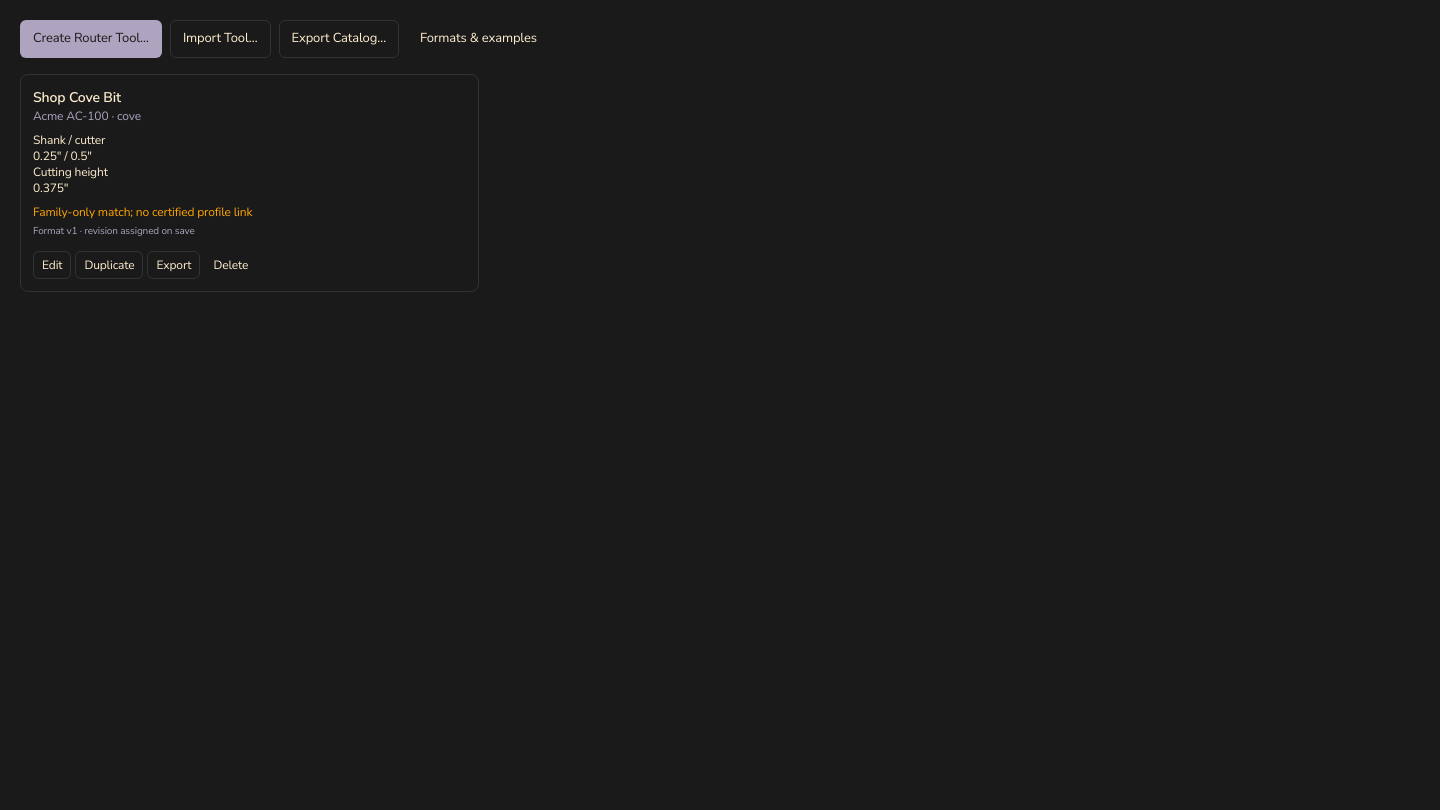
RouterToolsTab › opens the create, formats and catalog-export surfaces
This screenshot has width=1440, height=810.
Click the button "Create Router Tool…" at (91, 39), box [20,20,162,58]
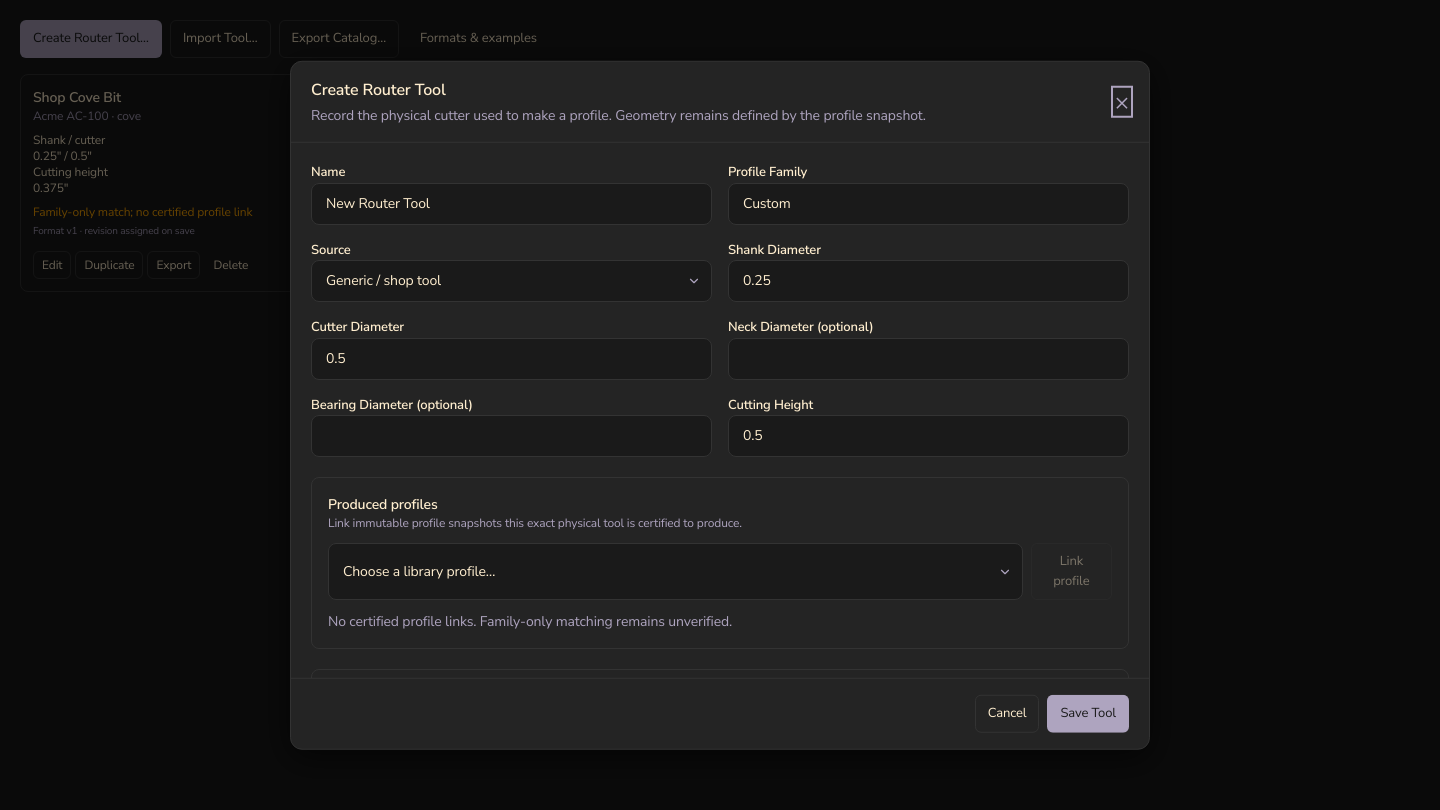
Now the dialog is shown, box [290,61,1150,749]
Press Escape in the button "×", box [1115,90,1129,114]
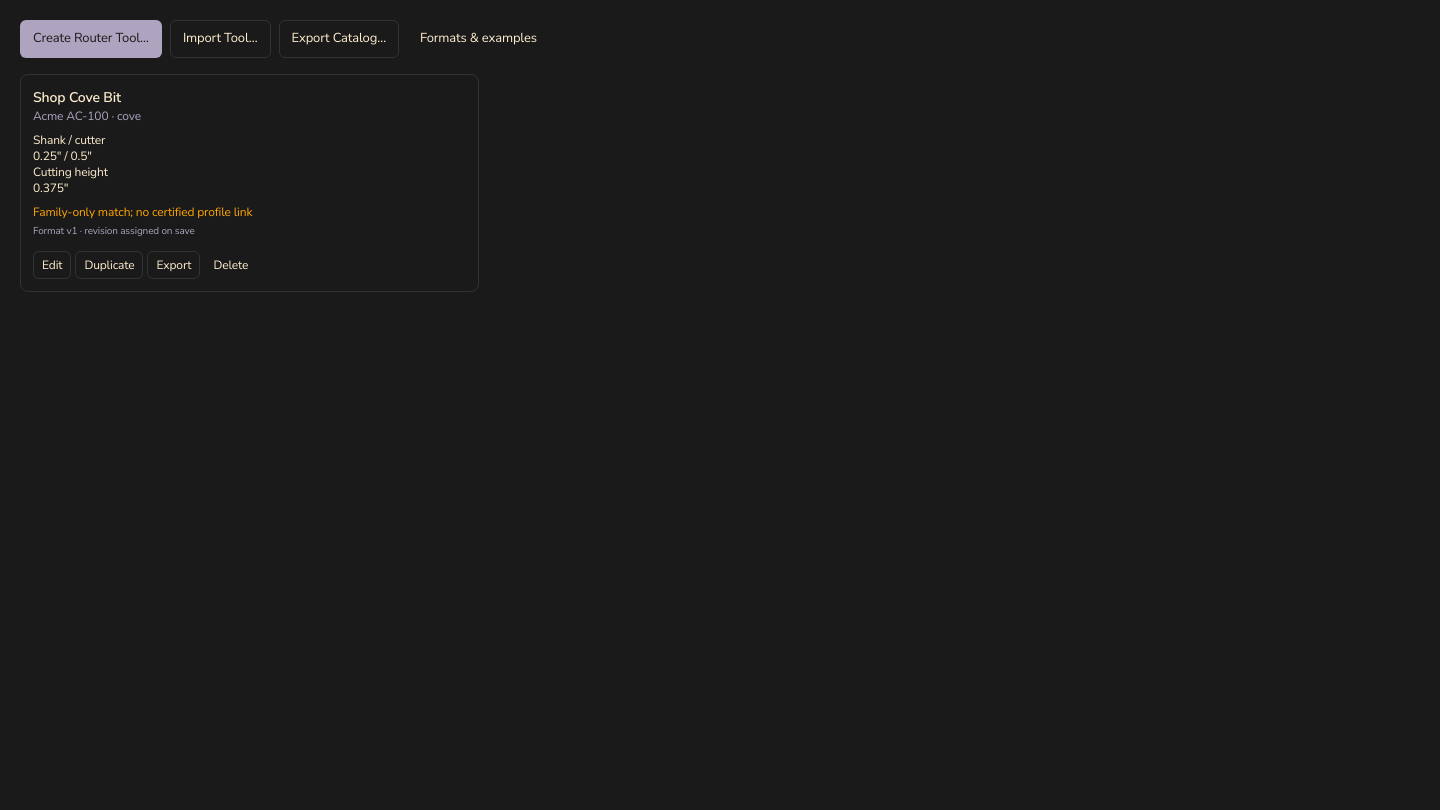
Click the button "Formats & examples" at (478, 39), box [407,20,550,58]
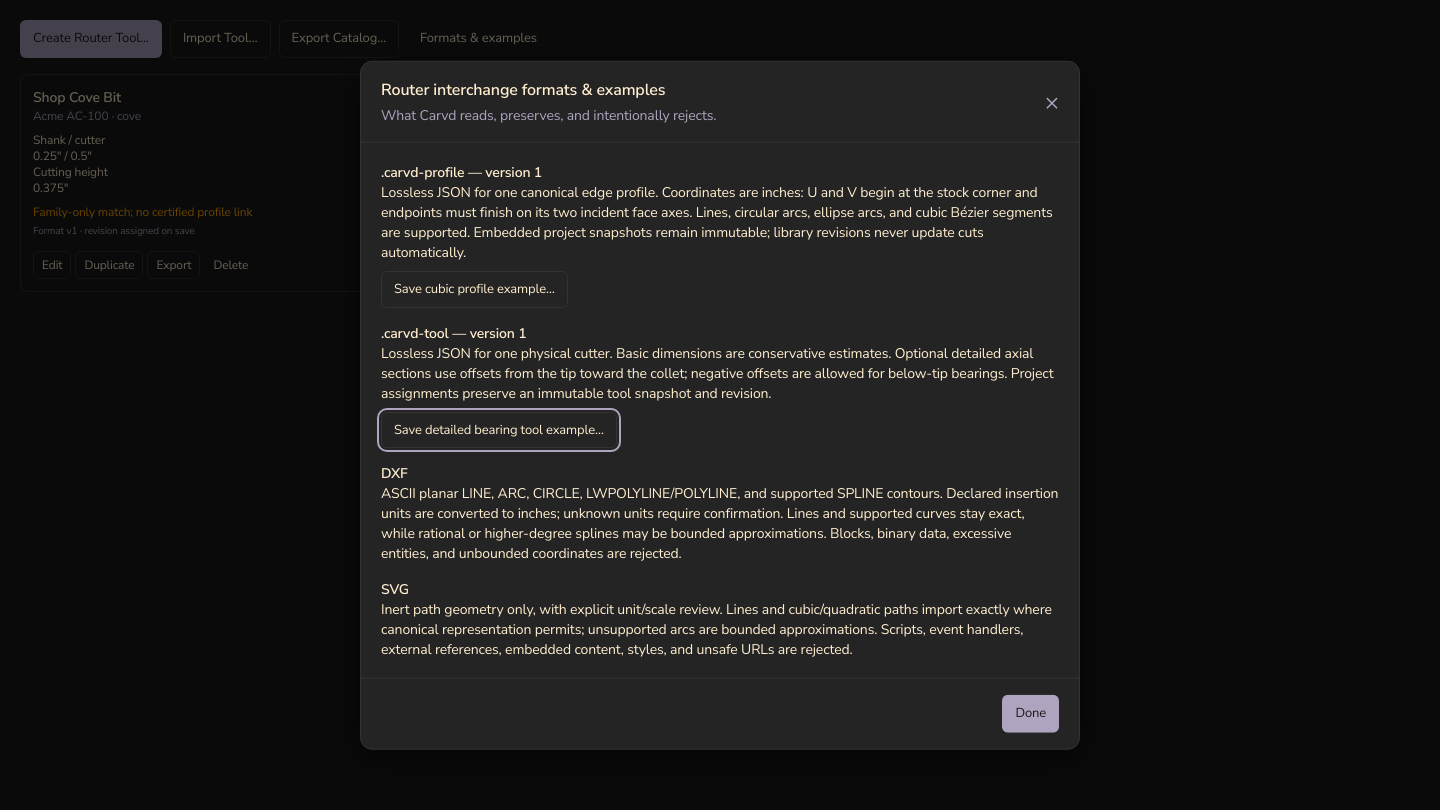
Now the dialog is shown, box [360,61,1080,749]
